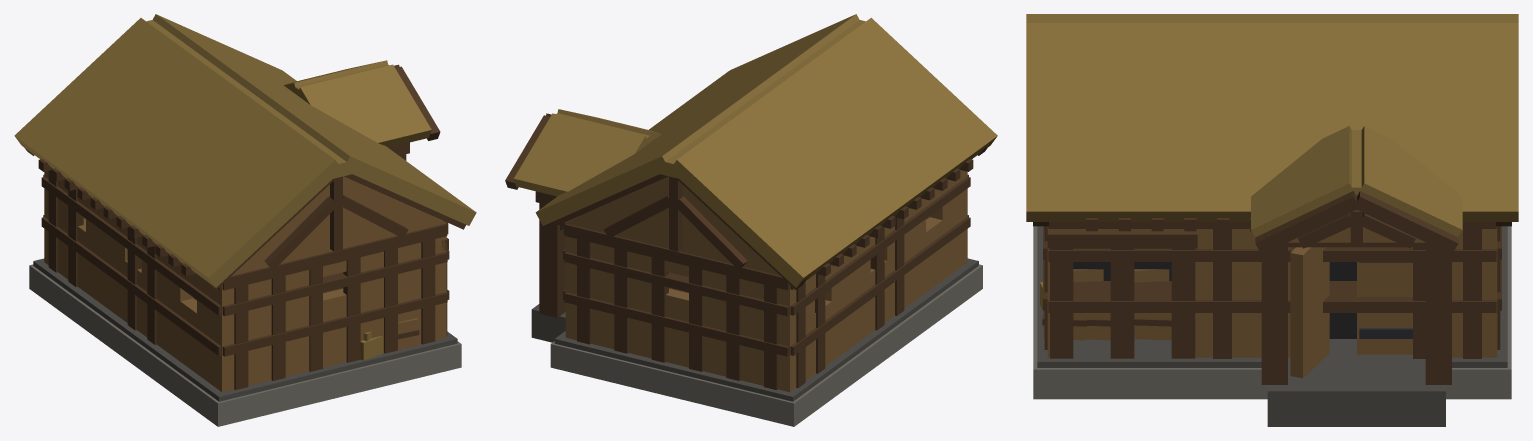
File: storehouse.glb
3 renders of one model, left to right at view 1: azimuth 30°, elevation 25°; view 2: azimuth 150°, elevation 25°; view 3: azimuth 270°, elevation 25°, orthographic. The views are drawn at different scales.
Visible parts, largest first — view 1: Cube.119, Cube, Cube.118, Cube.057, Cube.132, Cube.001, Cube.021, Cube.007, Cube.024, Cube.093, Cube.013, Cube.048 (+28 smaller); view 2: Cube.119, Cube, Cube.118, Cube.056, Cube.126, Cube.001, Cube.020, Cube.017, Cube.093, Cube.013, Cube.016, Cube.048 (+28 smaller); view 3: Cube.118, Cube.065, Cube, Cube.001, Cube.056, Cube.057, Cube.004, Cube.047, Cube.045, Cube.069, Cube.119, Cube.066 (+27 smaller).
Part boxes in pixels (x1=…): Cube.119: x1=14, y1=18, x2=340, y2=287; Cube: x1=29, y1=264, x2=461, y2=426; Cube.118: x1=152, y1=14, x2=476, y2=225; Cube.057: x1=297, y1=64, x2=431, y2=147; Cube.132: x1=232, y1=176, x2=445, y2=275; Cube.001: x1=33, y1=258, x2=457, y2=401; Cube.021: x1=248, y1=270, x2=309, y2=385; Cube.007: x1=197, y1=274, x2=234, y2=392; Cube.024: x1=360, y1=242, x2=421, y2=352; Cube.093: x1=222, y1=224, x2=447, y2=290; Cube.013: x1=86, y1=198, x2=127, y2=320; Cube.048: x1=43, y1=175, x2=447, y2=316; Cube.119: x1=670, y1=17, x2=997, y2=287; Cube: x1=550, y1=264, x2=982, y2=426; Cube.118: x1=535, y1=14, x2=859, y2=225; Cube.056: x1=513, y1=113, x2=648, y2=196; Cube.126: x1=566, y1=176, x2=779, y2=275; Cube.001: x1=554, y1=258, x2=978, y2=401; Cube.020: x1=590, y1=242, x2=651, y2=358; Cube.017: x1=703, y1=270, x2=763, y2=385; Cube.093: x1=565, y1=224, x2=789, y2=290; Cube.013: x1=825, y1=236, x2=870, y2=361; Cube.016: x1=777, y1=274, x2=814, y2=392; Cube.048: x1=564, y1=174, x2=968, y2=316; Cube.118: x1=1026, y1=23, x2=1518, y2=221; Cube.065: x1=1267, y1=343, x2=1445, y2=426; Cube: x1=1033, y1=226, x2=1511, y2=399; Cube.001: x1=1037, y1=226, x2=1507, y2=367; Cube.056: x1=1357, y1=126, x2=1462, y2=237; Cube.057: x1=1251, y1=126, x2=1356, y2=237; Cube.004: x1=1192, y1=229, x2=1291, y2=357; Cube.047: x1=1048, y1=247, x2=1496, y2=261; Cube.045: x1=1048, y1=299, x2=1496, y2=312; Cube.069: x1=1290, y1=247, x2=1329, y2=378; Cube.119: x1=1026, y1=14, x2=1518, y2=22; Cube.066: x1=1357, y1=262, x2=1412, y2=354.
Size of the model in its own units: 101 by 71.91 by 105.
